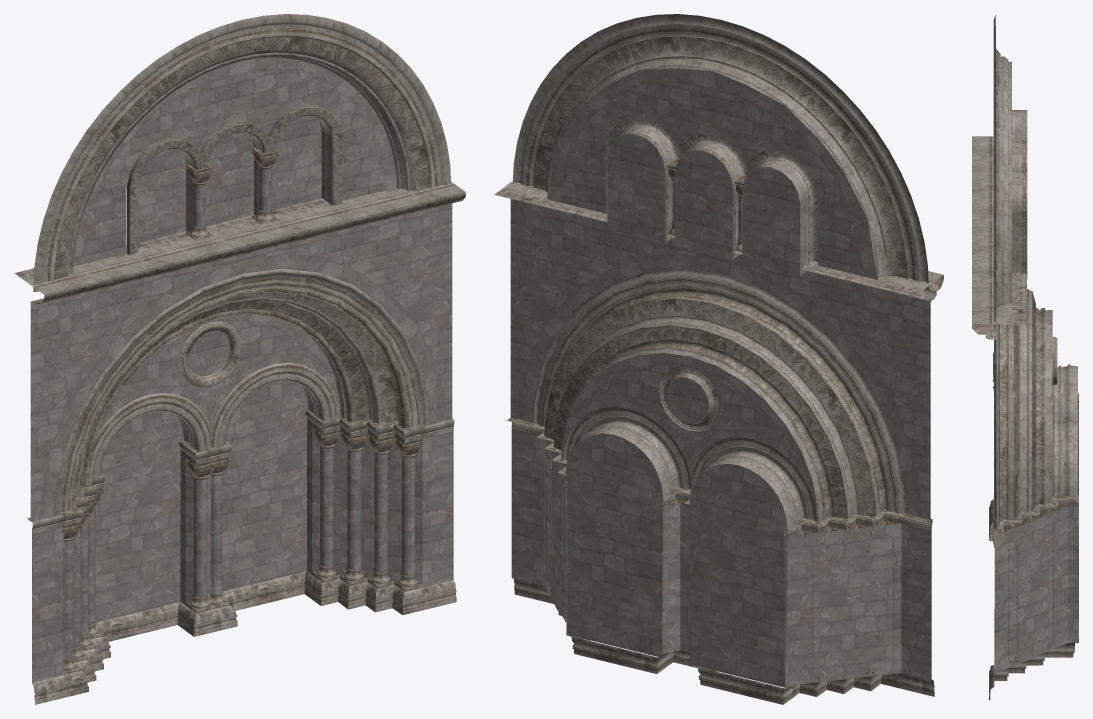
3 views of the same model, side by side, from view 1: azimuth 30°, elevation 25°; view 2: azimuth 150°, elevation 25°; view 3: azimuth 270°, elevation 25° (orthographic). The views are drawn at different scales.
Visible parts, largest first — view 1: SM_BlindArcade01_LOD0; view 2: SM_BlindArcade01_LOD0; view 3: SM_BlindArcade01_LOD0.
Part boxes in pixels (left/top/right/bottom): SM_BlindArcade01_LOD0: left=14, top=14, right=465, bottom=704; SM_BlindArcade01_LOD0: left=494, top=14, right=943, bottom=704; SM_BlindArcade01_LOD0: left=972, top=15, right=1078, bottom=700.
Size of the model in its own units: 7.4 by 10.59 by 1.78.
Materials: 3 (3 with a texture image).
